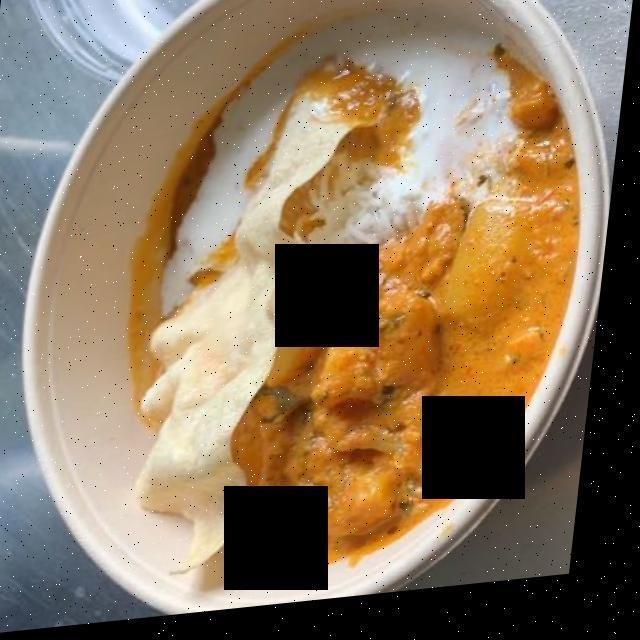curry-vegetarian: (255, 43, 577, 566)
rice: (300, 141, 447, 311)
yogurt: (166, 10, 516, 311)
